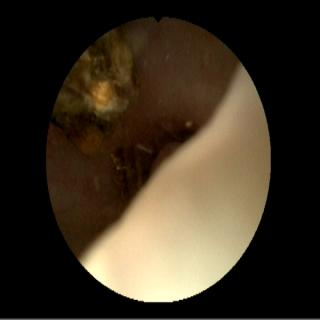stone: (54, 31, 139, 127), (70, 121, 104, 152), (114, 150, 133, 191)
tissue: (84, 19, 263, 296)
